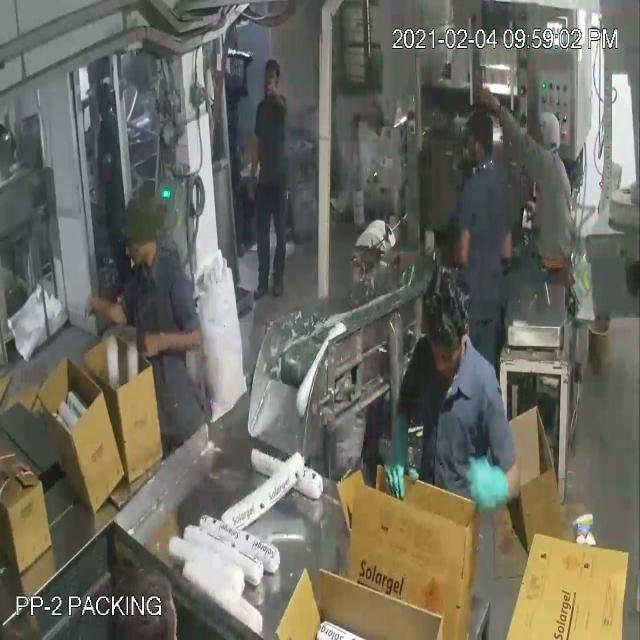gloves: (387, 391, 431, 520), (457, 444, 512, 520)
no-gloves: (138, 313, 222, 371), (74, 278, 144, 342), (242, 124, 268, 202)
